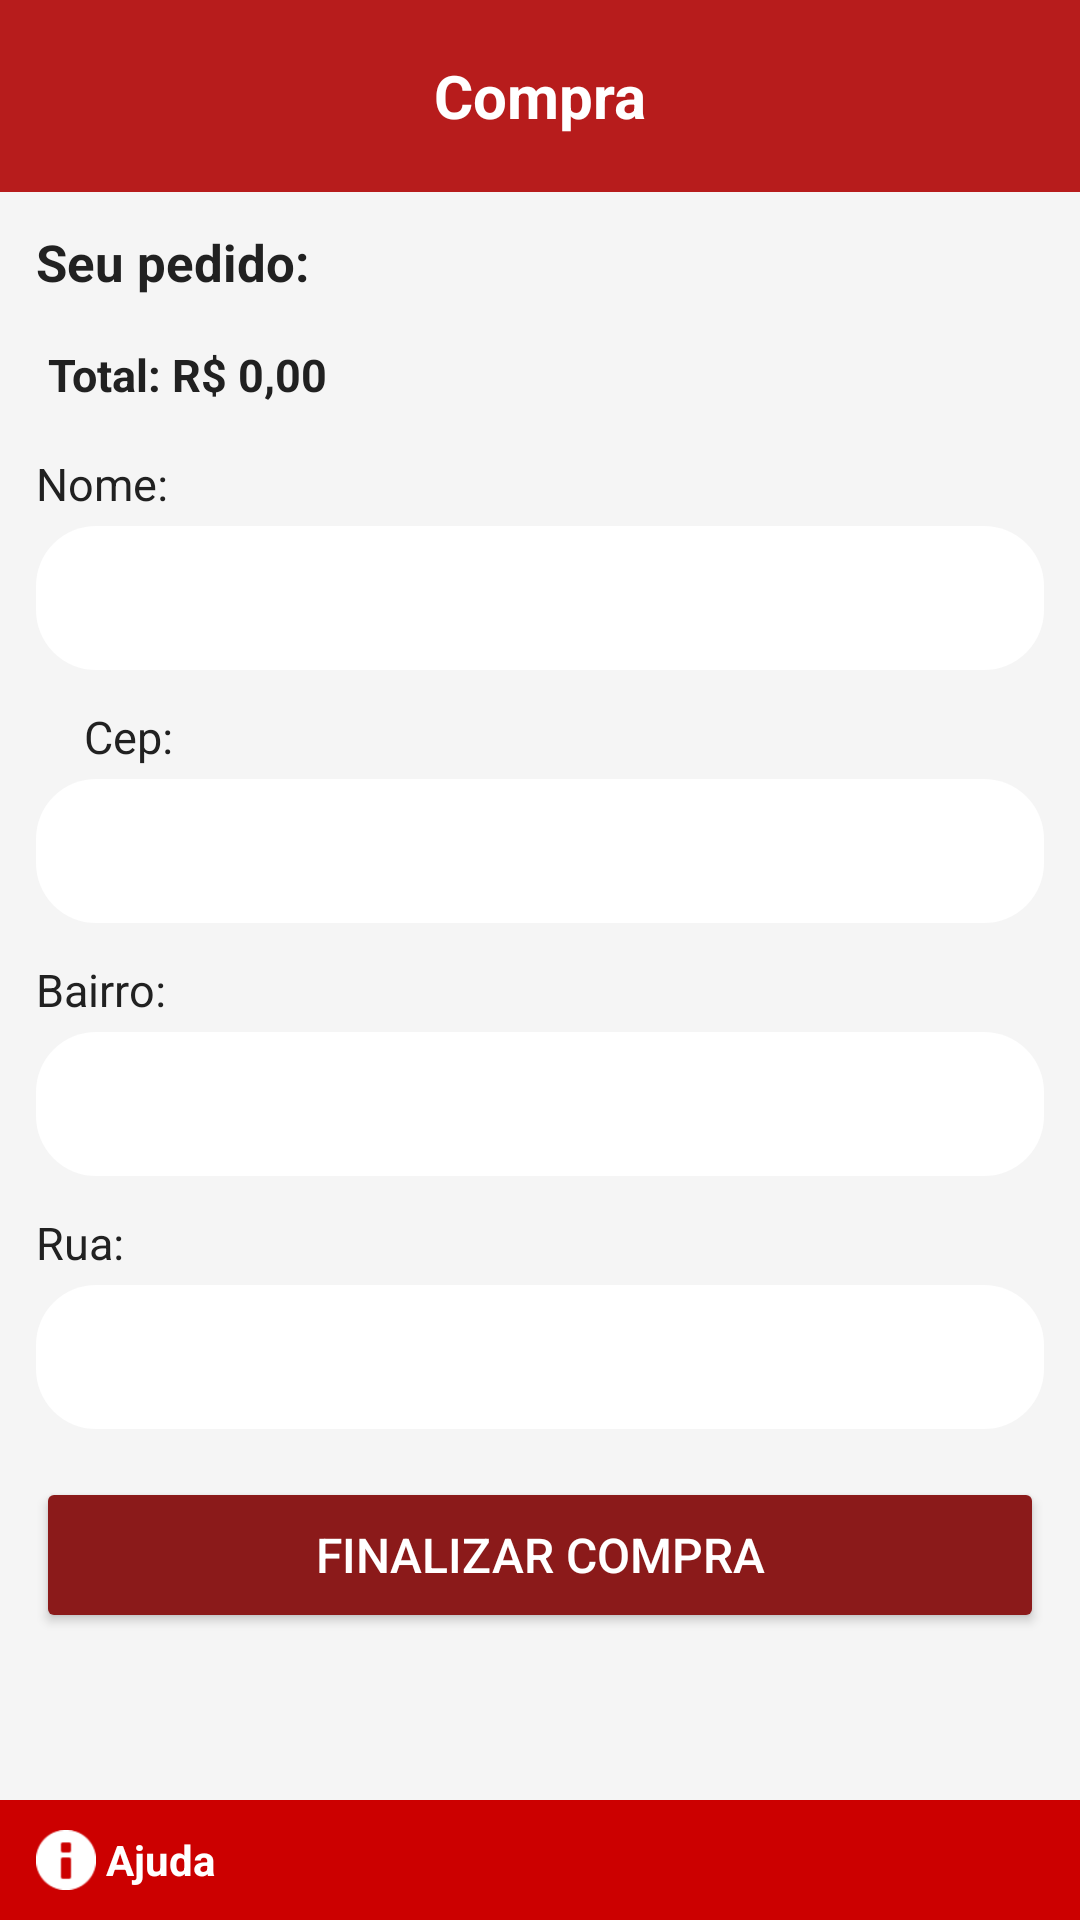

Locate icon controls on the screen. Image size 1080×1920, boxes as (x1, y1, x2, y2).
info: (36, 1830, 96, 1890)
